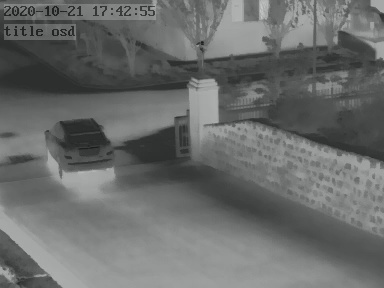vehicle: (42, 119, 115, 177)
